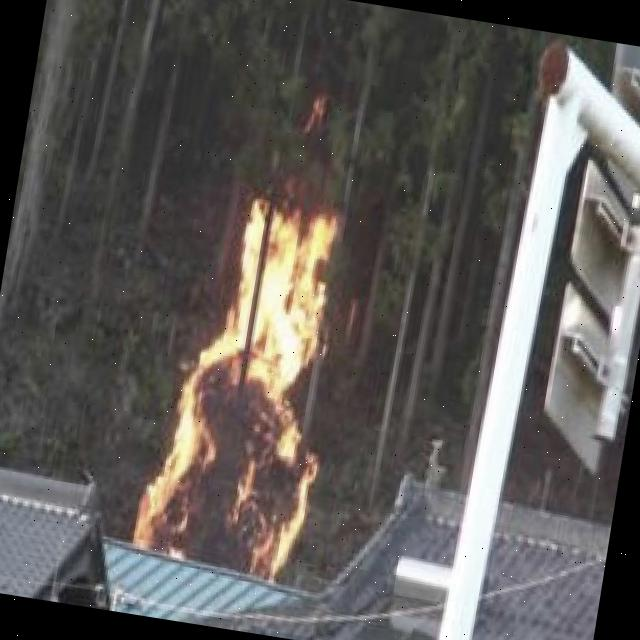fire: (129, 180, 373, 590)
